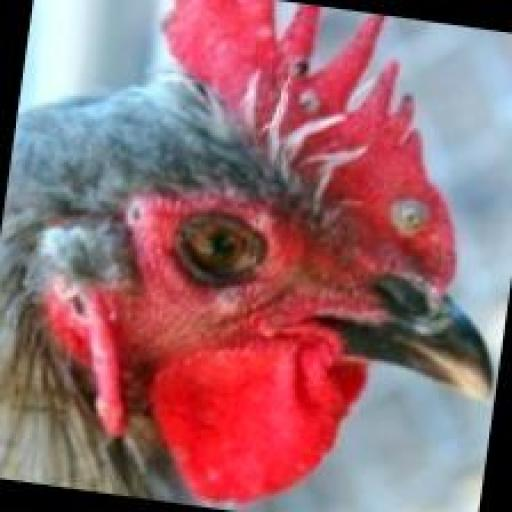disease: (166, 194, 288, 341), (376, 166, 444, 260), (42, 259, 106, 352), (280, 39, 324, 147), (112, 177, 158, 249), (237, 196, 281, 246)
